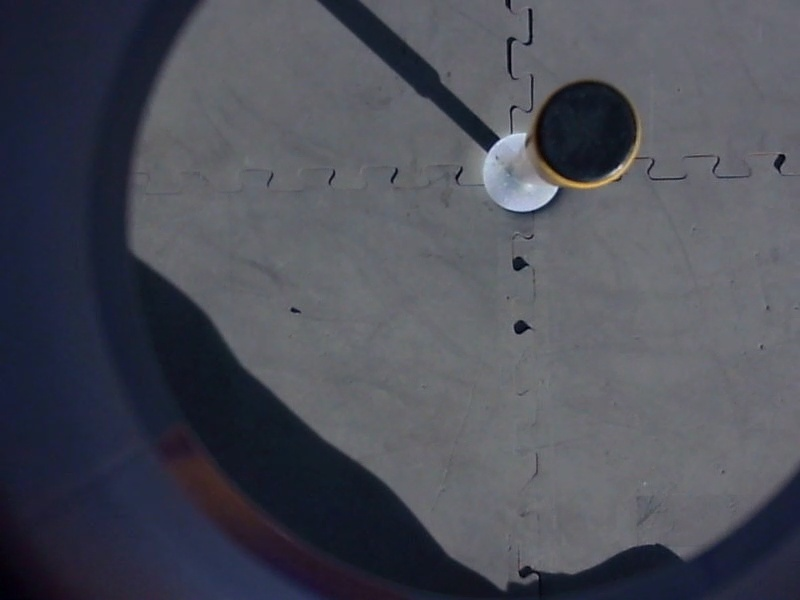tip: (529, 73, 647, 193)
